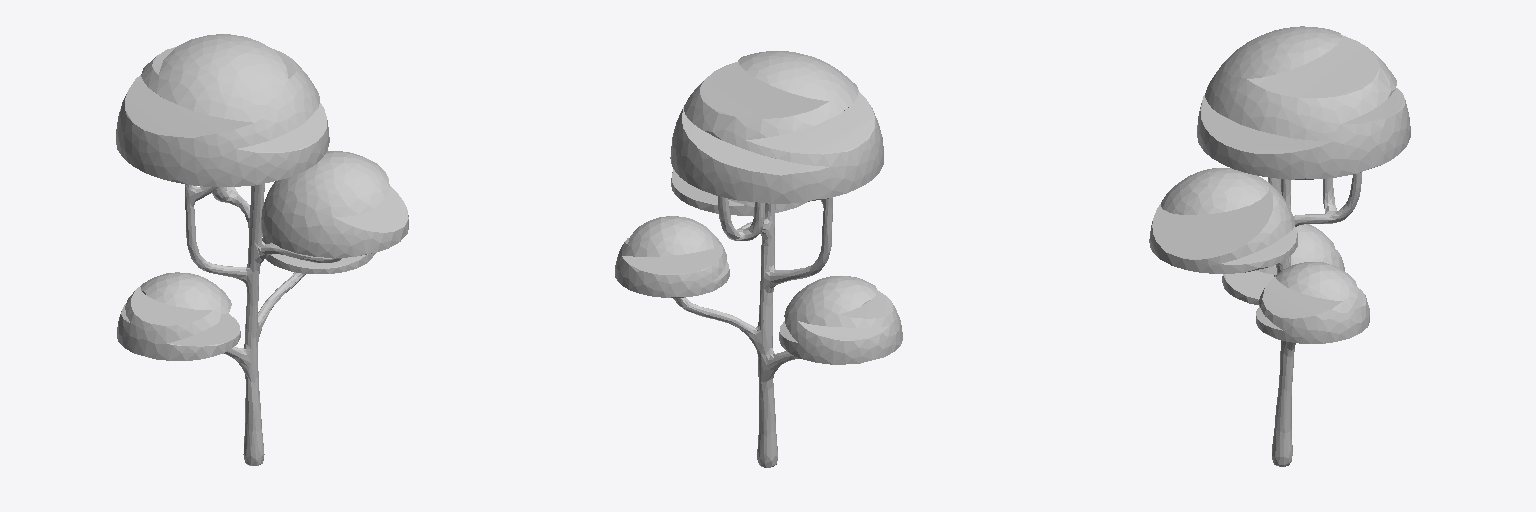
File: Tree Speed SculptOBJ.obj
3 renders of one model, left to right at view 1: azimuth 30°, elevation 25°; view 2: azimuth 150°, elevation 25°; view 3: azimuth 270°, elevation 25°, orthographic.
Parts seen in each view (by area): view 1: Leaves_Leaves1_0, Trunk_Trunk1_0; view 2: Leaves_Leaves1_0, Trunk_Trunk1_0; view 3: Leaves_Leaves1_0, Trunk_Trunk1_0.
Boxes of the visible parts, <box> form: Leaves_Leaves1_0: <box>116,34,408,360</box>; Trunk_Trunk1_0: <box>185,184,341,465</box>; Leaves_Leaves1_0: <box>615,51,902,364</box>; Trunk_Trunk1_0: <box>673,196,832,467</box>; Leaves_Leaves1_0: <box>1149,26,1410,343</box>; Trunk_Trunk1_0: <box>1268,172,1361,466</box>.
Size of the model in its own units: 3.92 by 6.07 by 3.44.